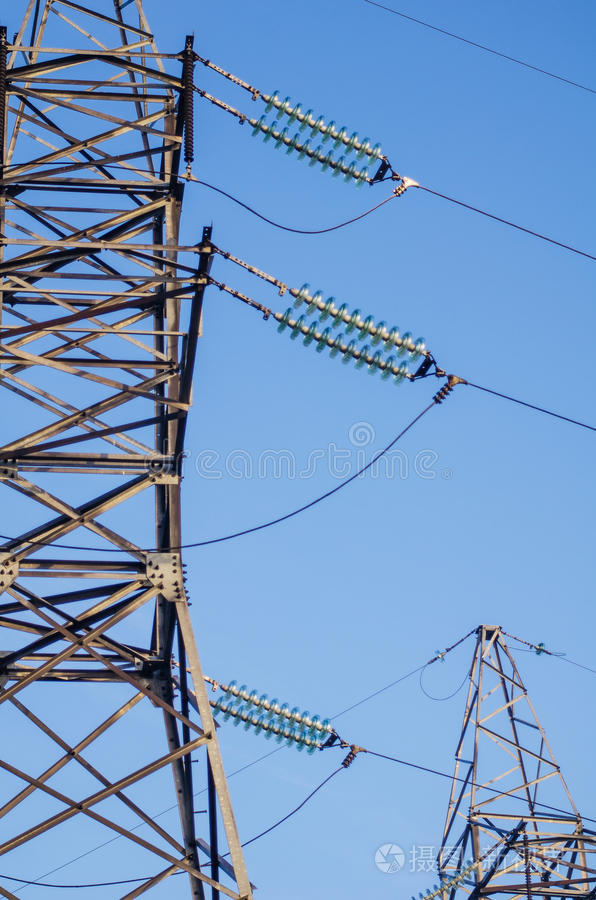insulator: (271, 285, 426, 384), (249, 93, 385, 188), (207, 677, 334, 755), (411, 860, 476, 899)
